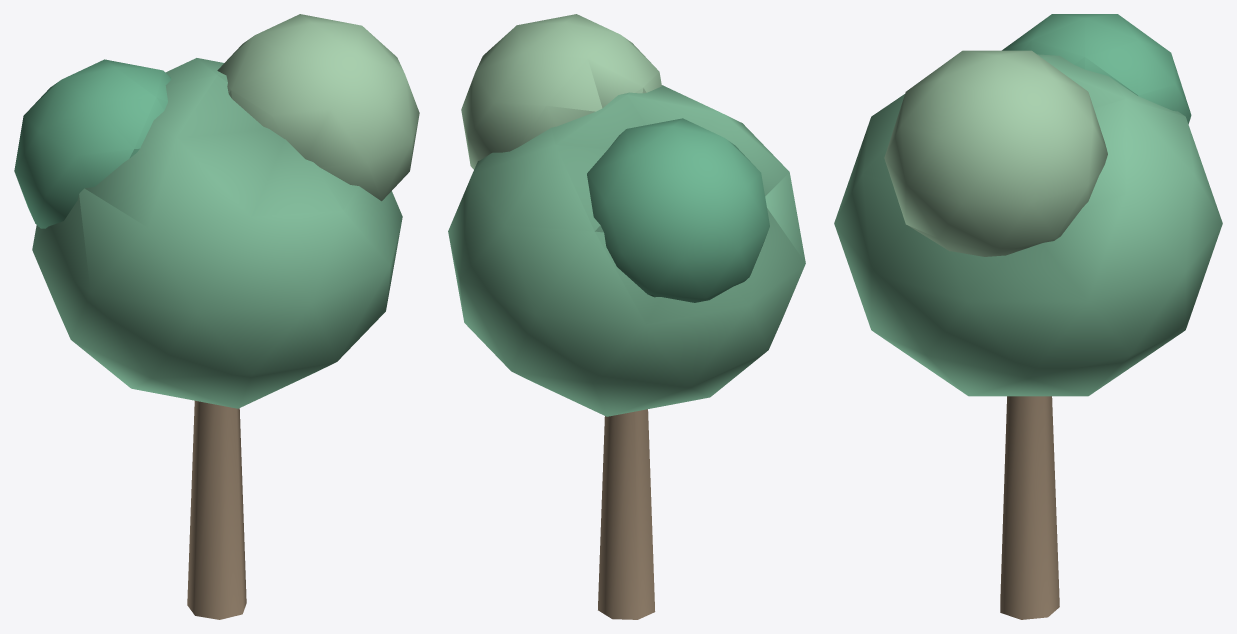
File: tree_round.glb
3 views of the same model, side by side, from view 1: azimuth 30°, elevation 25°; view 2: azimuth 150°, elevation 25°; view 3: azimuth 270°, elevation 25° (orthographic). The views are drawn at different scales.
Visible parts, largest first — view 1: tree_round; view 2: tree_round; view 3: tree_round.
Boxes of the visible parts, x1,y1,x2,y2 form: tree_round: (14,14,419,619); tree_round: (448,14,805,619); tree_round: (834,14,1222,619).
Bounding box in the file's own units: 1.25 × 2.08 × 1.24.
